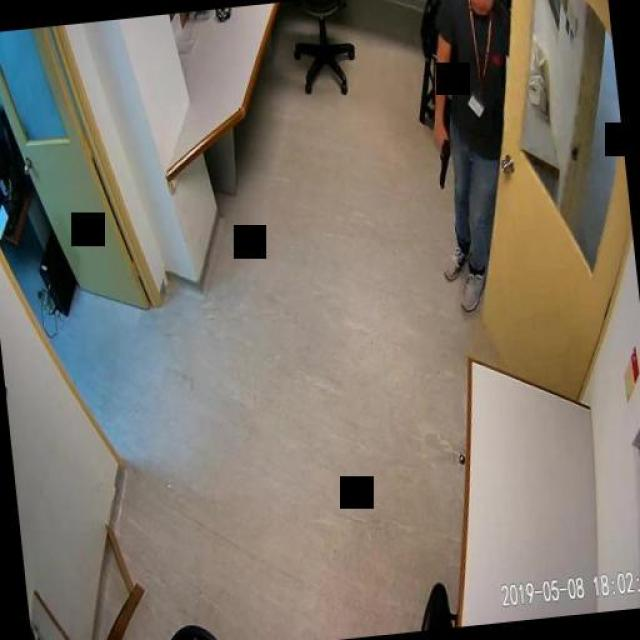gun: (433, 134, 452, 188)
